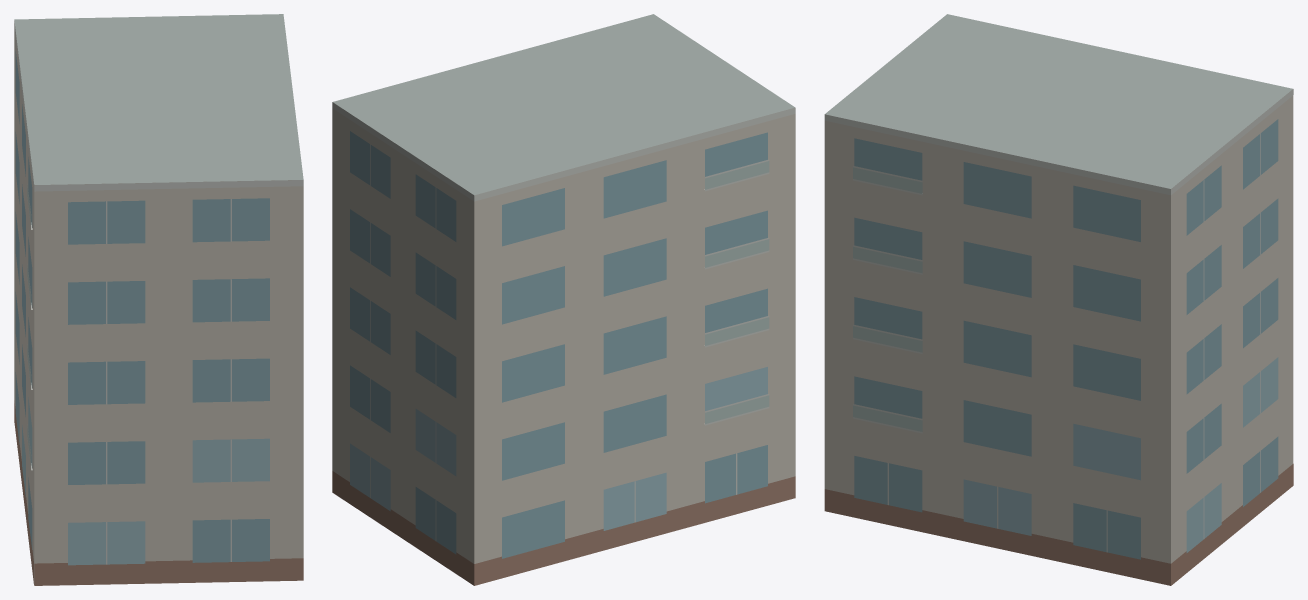
File: survey-upis-32555103.glb
3 renders of one model, left to right at view 1: azimuth 30°, elevation 25°; view 2: azimuth 150°, elevation 25°; view 3: azimuth 270°, elevation 25°, orthographic. The views are drawn at different scales.
Parts seen in each view (by area): view 1: survey-upis-32555103.tmp; view 2: survey-upis-32555103.tmp; view 3: survey-upis-32555103.tmp.
Part boxes in pixels (x1,y1,x2,y2): survey-upis-32555103.tmp: (14, 14, 303, 585); survey-upis-32555103.tmp: (332, 14, 795, 585); survey-upis-32555103.tmp: (824, 14, 1293, 585).
Bounding box in the file's own units: 14.43 × 15.25 × 16.33.
